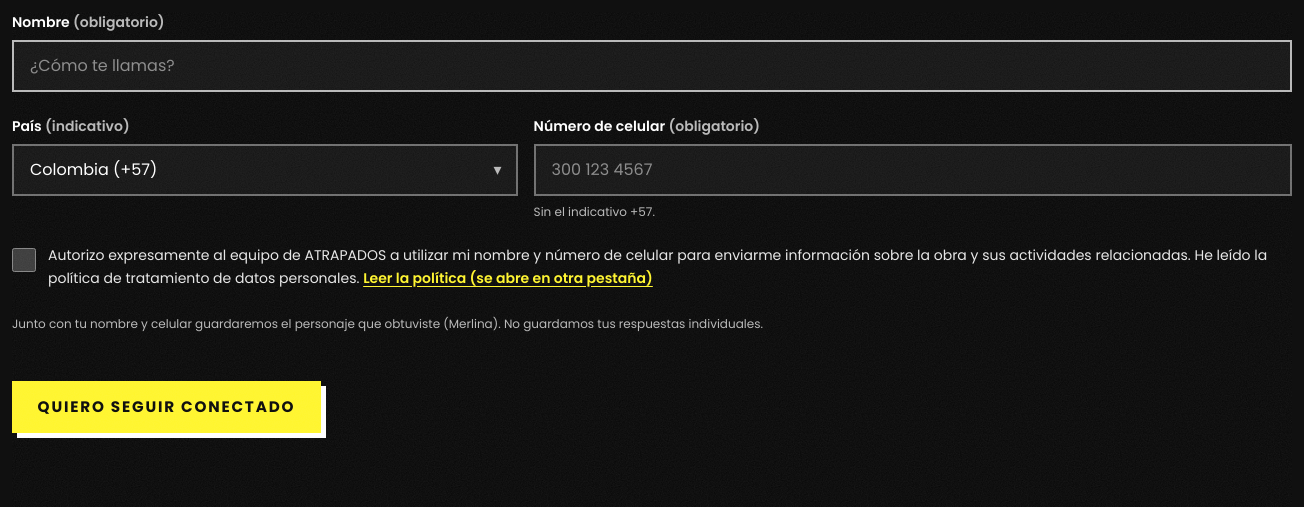
Test: LeadForm › muestra el error del servidor sin simular éxito
In the field labelled "Nombre (obligatorio)": coordinates (652, 66) [12,40,1292,92], type "Ana"
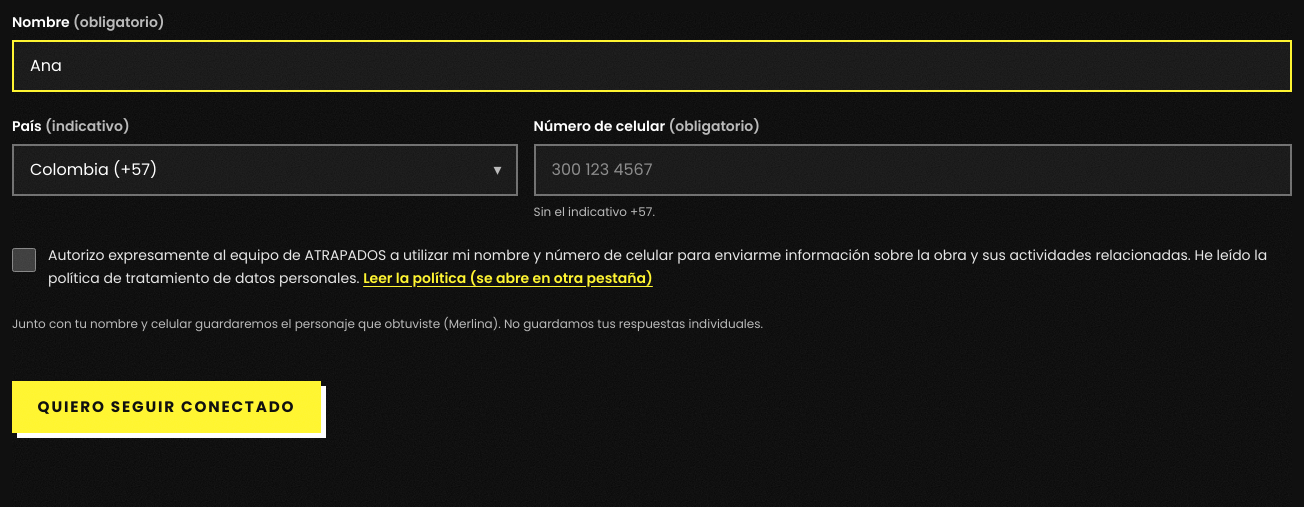
In the field labelled "Número de celular (obligatorio)": coordinates (913, 170) [534,144,1292,196], type "3001234567"
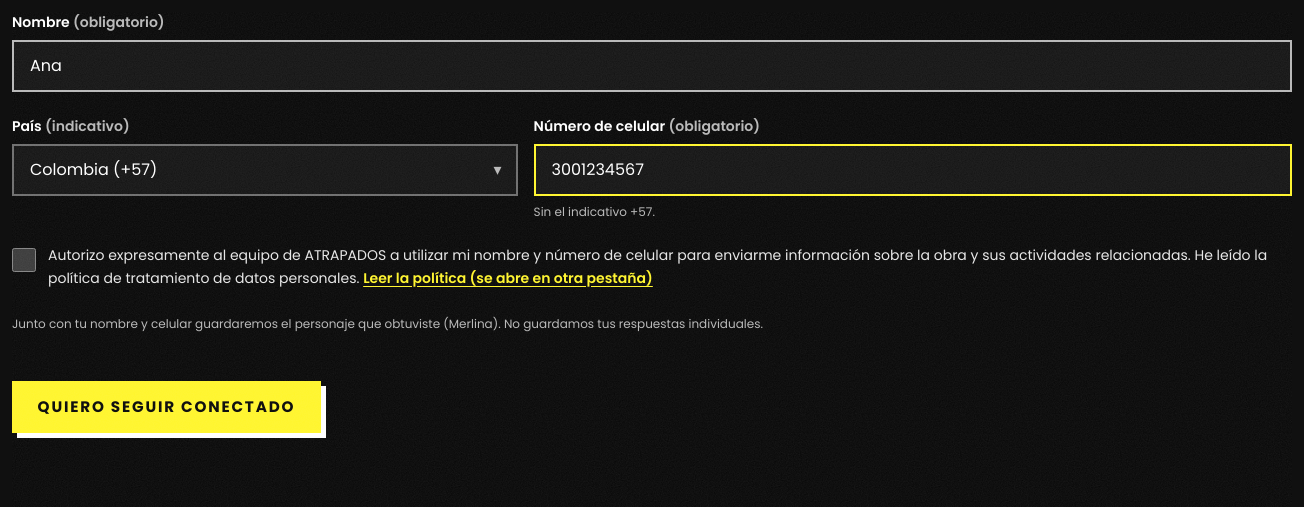
Click the checkbox: coordinates (24, 260) [12,248,36,272]
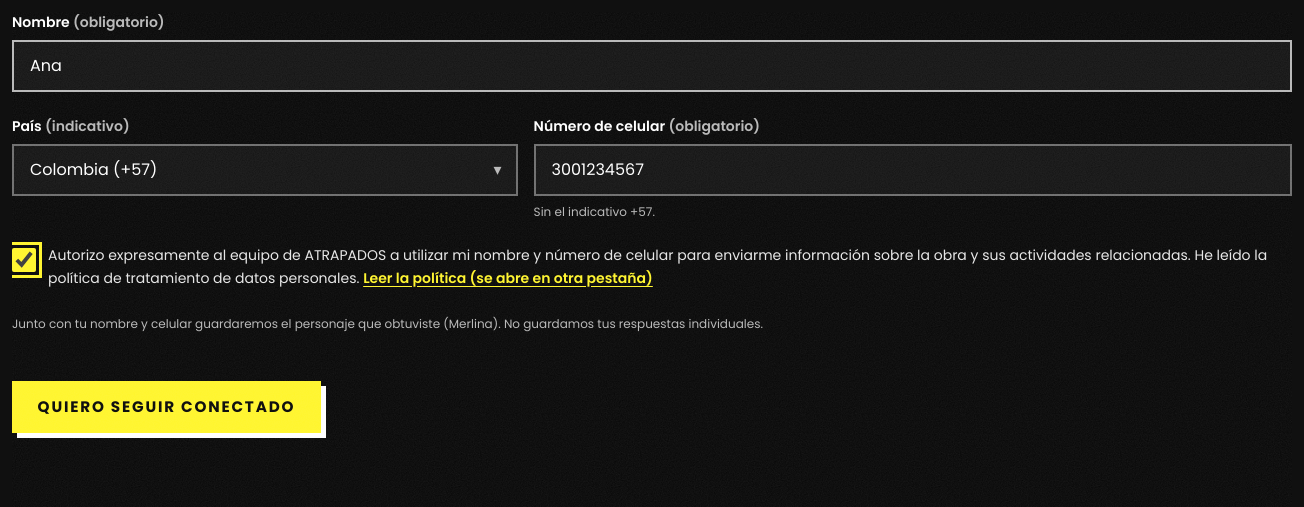
Click the button "Quiero seguir conectado": coordinates (166, 407) [12,381,321,433]
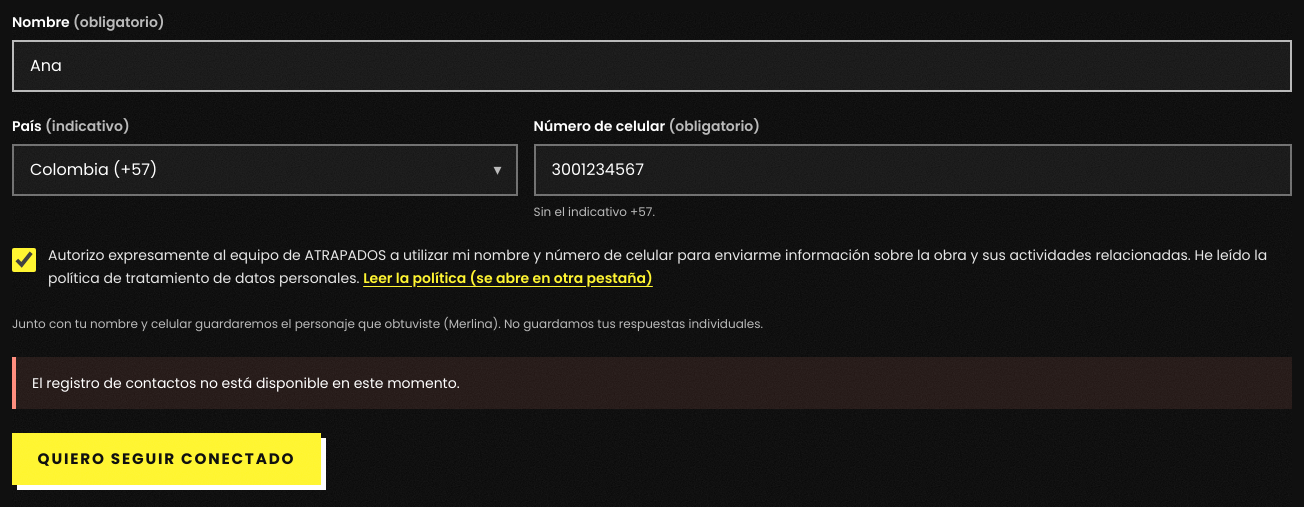
Expected: the button "Quiero seguir conectado" is enabled, [12,433,321,485]
Now the text "El registro de contactos no está disponible en este momento." is shown, box [12,357,1292,409]
